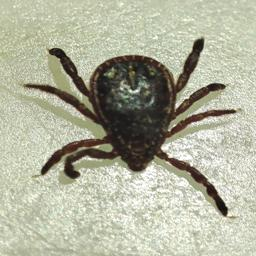Rhipicephalus sanguineus: (23, 35, 236, 217)
